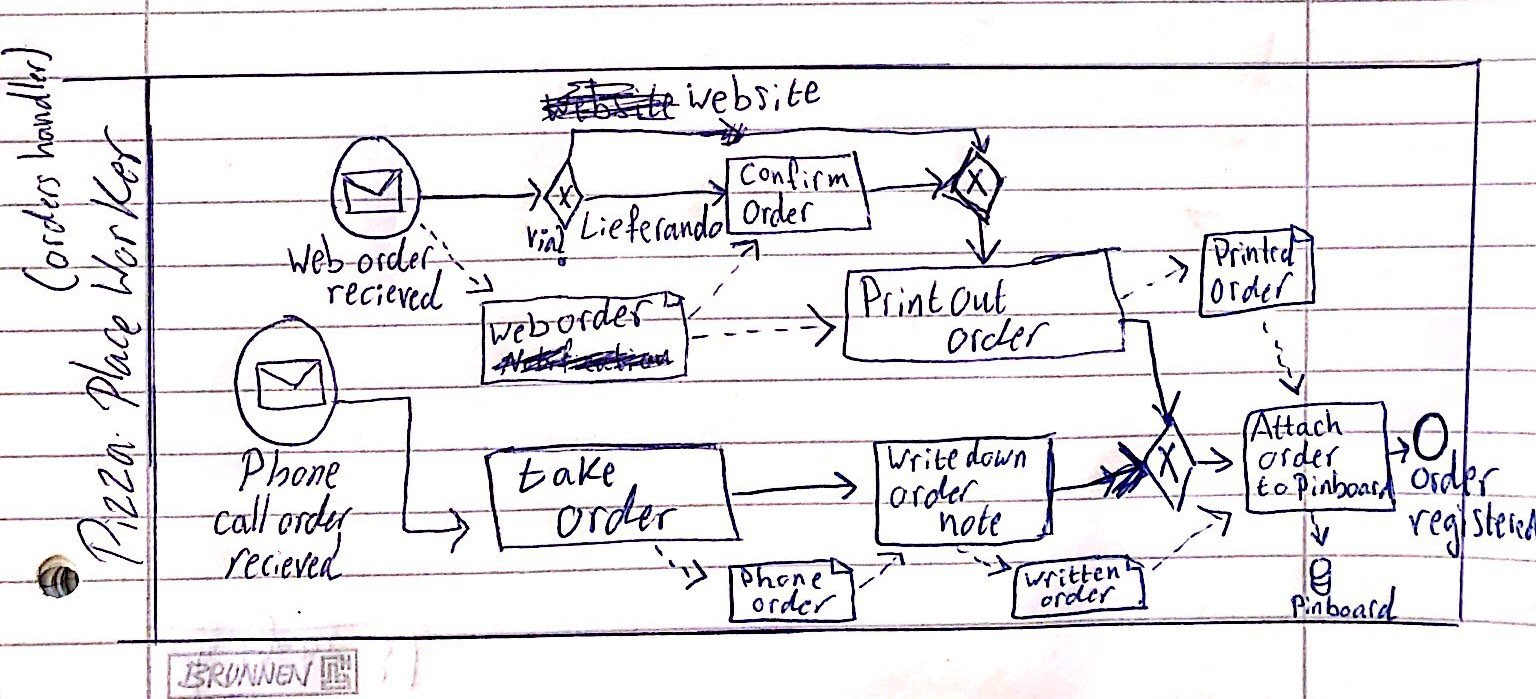(orders: (19, 173, 78, 289)
Attach: (1247, 410, 1350, 443)
Confirm: (738, 161, 849, 193)
Lieferando: (579, 208, 721, 244)
Out: (949, 274, 1009, 319)
Phone: (235, 449, 343, 493), (737, 564, 826, 591)
Pinboard: (1289, 588, 1403, 623), (1291, 469, 1395, 503)
Pizza: (74, 438, 144, 569)
Print: (856, 272, 945, 319)
Printed: (1211, 234, 1297, 272)
Via?: (523, 226, 571, 264)
Web: (285, 238, 342, 277)
Worker: (86, 120, 140, 297)
Write: (884, 444, 963, 475)
call: (211, 493, 272, 538)
down: (963, 441, 1031, 471)
handler): (1, 41, 58, 159)
note: (935, 505, 1005, 539)
order: (552, 482, 678, 540), (1406, 448, 1501, 499), (945, 316, 1054, 356), (275, 494, 355, 537), (887, 474, 978, 511), (1254, 439, 1344, 473), (1209, 271, 1295, 306), (359, 239, 440, 276), (739, 194, 817, 231), (749, 590, 840, 617), (1039, 583, 1120, 609)
place: (64, 306, 143, 411)
recieved: (220, 540, 343, 582), (325, 279, 447, 312)
registered: (1405, 500, 1535, 557)
take: (515, 453, 618, 495)
to: (1254, 471, 1290, 500)
weborder: (484, 310, 655, 348)
website: (688, 68, 817, 117)
written: (1019, 561, 1124, 591)
